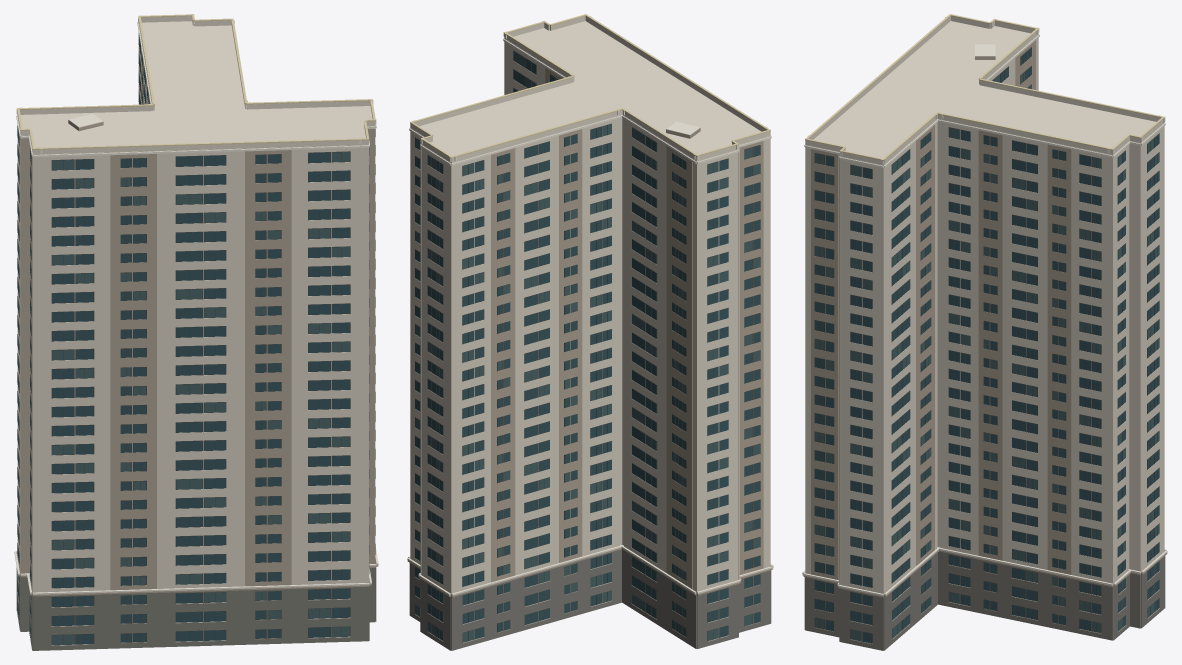
File: bespoke-raemian-prestige-122.glb
3 renders of one model, left to right at view 1: azimuth 30°, elevation 25°; view 2: azimuth 150°, elevation 25°; view 3: azimuth 270°, elevation 25°, orthographic. The views are drawn at different scales.
Parts seen in each view (by area): view 1: Prestige_warm_ivory_rendered_wall008, Prestige_recessed_blue_green_window008, Prestige_wide_taupe_pilasters008, Prestige_dark_bronze_thin_window_frame008, Prestige_dark_brown_grey_stone_base008, Prestige_muted_green_window_pair008, Prestige_pale_limestone_band008, Prestige_cream_gold_crown_coping008; view 2: Prestige_warm_ivory_rendered_wall008, Prestige_recessed_blue_green_window008, Prestige_wide_taupe_pilasters008, Prestige_dark_bronze_thin_window_frame008, Prestige_dark_brown_grey_stone_base008, Prestige_muted_green_window_pair008, Prestige_pale_limestone_band008, Prestige_cream_gold_crown_coping008; view 3: Prestige_warm_ivory_rendered_wall008, Prestige_recessed_blue_green_window008, Prestige_wide_taupe_pilasters008, Prestige_dark_bronze_thin_window_frame008, Prestige_dark_brown_grey_stone_base008, Prestige_muted_green_window_pair008, Prestige_pale_limestone_band008, Prestige_cream_gold_crown_coping008.
Part boxes in pixels (x1,y1,x2,y2): Prestige_warm_ivory_rendered_wall008: (17,16,375,645); Prestige_recessed_blue_green_window008: (17,41,369,644); Prestige_wide_taupe_pilasters008: (18,51,378,643); Prestige_dark_bronze_thin_window_frame008: (17,33,375,645); Prestige_dark_brown_grey_stone_base008: (16,553,376,650); Prestige_muted_green_window_pair008: (17,34,369,645); Prestige_pale_limestone_band008: (14,19,378,594); Prestige_cream_gold_crown_coping008: (16,14,376,149); Prestige_warm_ivory_rendered_wall008: (410,16,770,648); Prestige_recessed_blue_green_window008: (415,59,760,640); Prestige_wide_taupe_pilasters008: (407,67,773,637); Prestige_dark_bronze_thin_window_frame008: (415,50,760,642); Prestige_dark_brown_grey_stone_base008: (409,549,771,650); Prestige_muted_green_window_pair008: (415,51,760,642); Prestige_pale_limestone_band008: (407,33,773,595); Prestige_cream_gold_crown_coping008: (410,14,770,158); Prestige_warm_ivory_rendered_wall008: (805,16,1164,644); Prestige_recessed_blue_green_window008: (815,48,1159,643); Prestige_wide_taupe_pilasters008: (802,40,1167,631); Prestige_dark_bronze_thin_window_frame008: (814,47,1159,643); Prestige_dark_brown_grey_stone_base008: (804,551,1165,650); Prestige_muted_green_window_pair008: (815,72,1159,641); Prestige_pale_limestone_band008: (802,30,1167,595); Prestige_cream_gold_crown_coping008: (805,14,1165,160).
Bounding box in the file's own units: 47.68 × 73.7 × 49.68.
